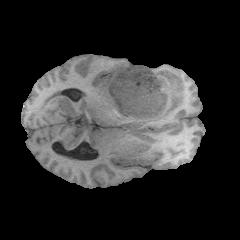glioma: (105, 66, 185, 122)
